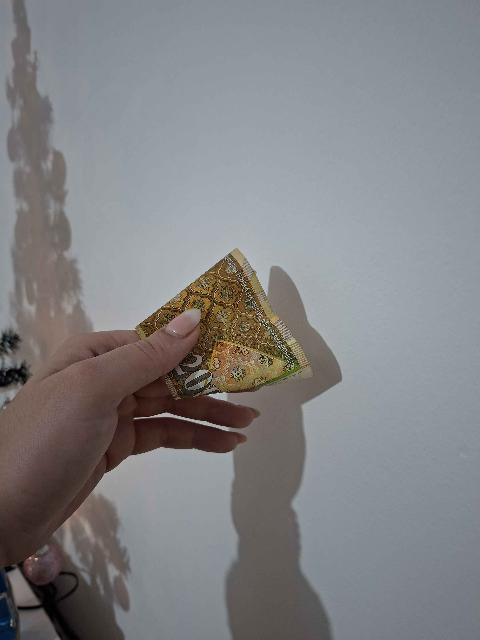200_note: (136, 249, 312, 399)
